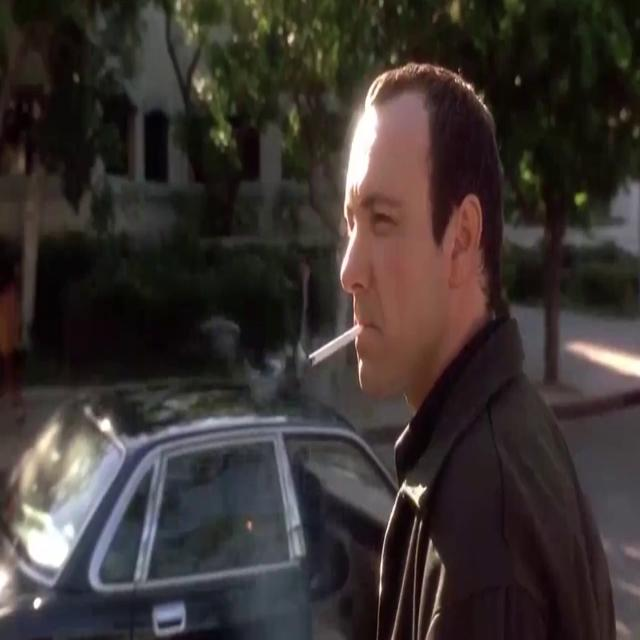Smooking: (300, 310, 358, 382)
